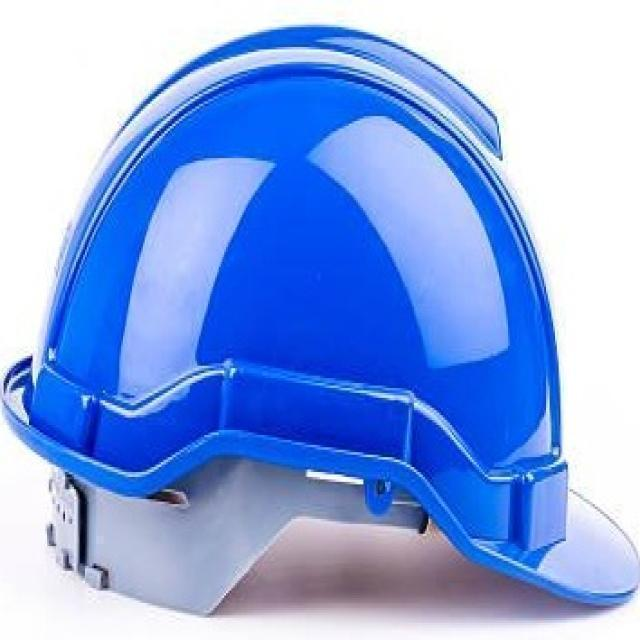blue helmet: (6, 17, 640, 617)
